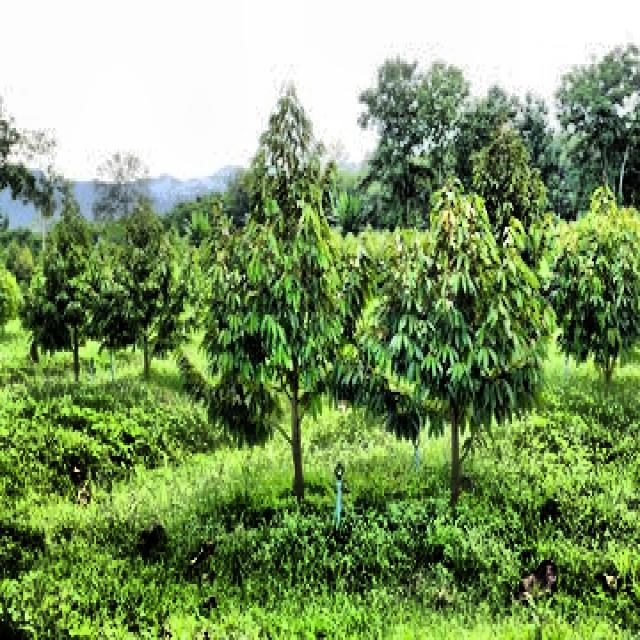arvore: (281, 291, 326, 536), (438, 323, 473, 527)
